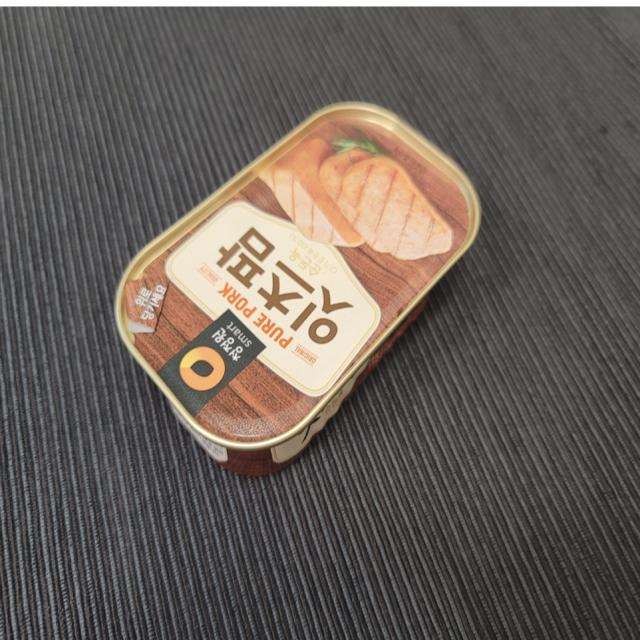recyclable: (97, 63, 504, 492)
